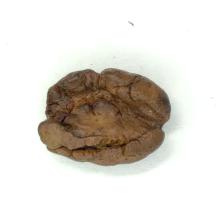NG: (38, 68, 170, 164)
